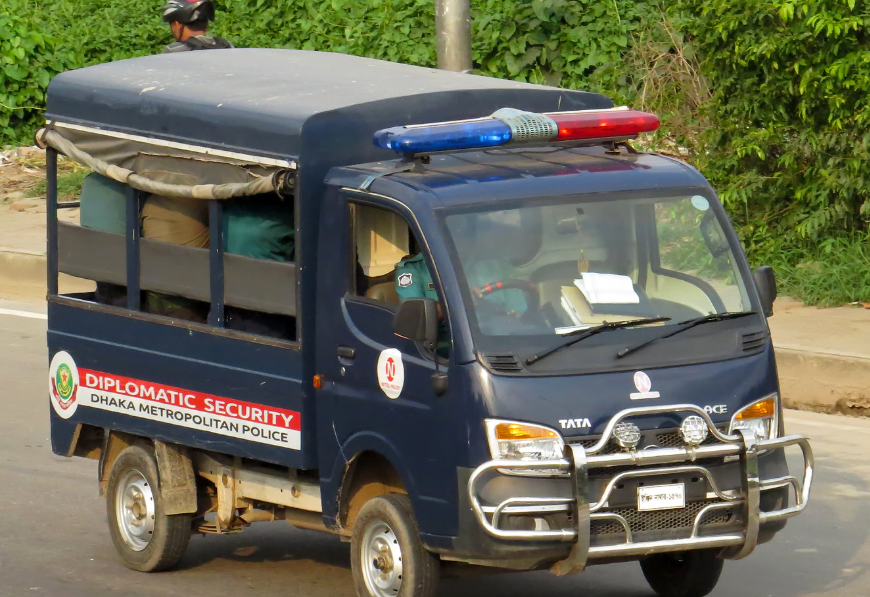Police cars: (40, 41, 822, 597)
